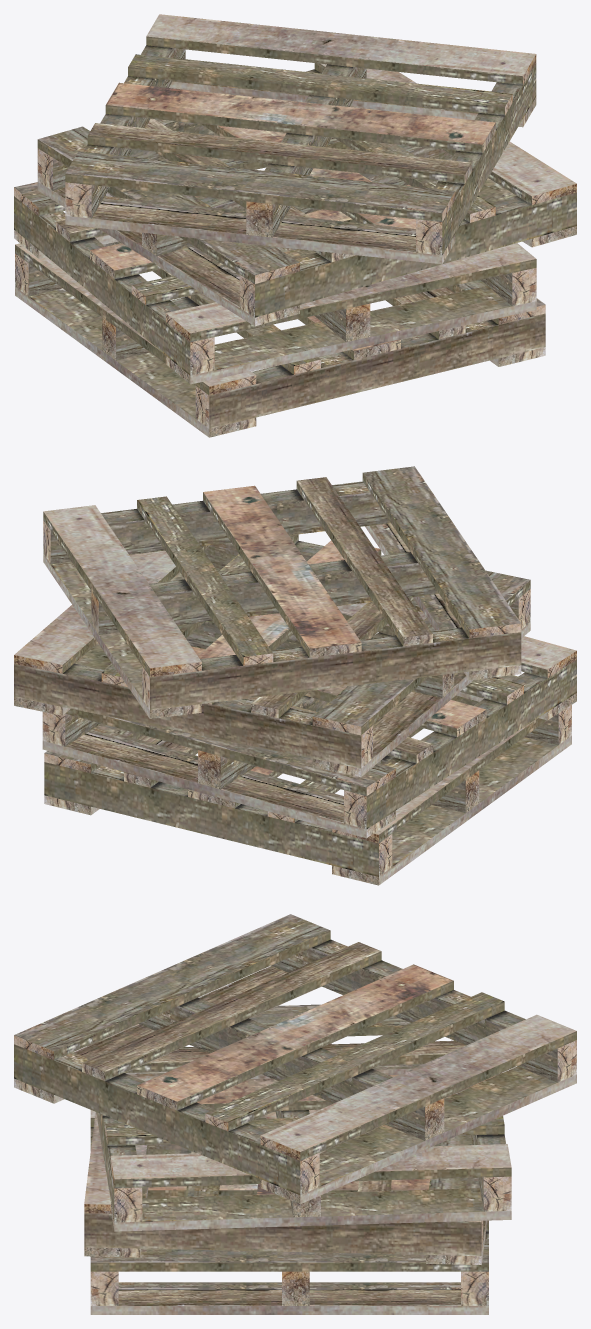
File: crate_a_from_fps_creator_classic.glb
3 views of the same model, one above another, from view 1: azimuth 30°, elevation 25°; view 2: azimuth 150°, elevation 25°; view 3: azimuth 270°, elevation 25° (orthographic). The views are drawn at different scales.
Parts seen in each view (by area): view 1: crate_a; view 2: crate_a; view 3: crate_a.
Part boxes in pixels (left/top/right/bottom): crate_a: left=14, top=14, right=576, bottom=437; crate_a: left=14, top=466, right=576, bottom=885; crate_a: left=14, top=914, right=576, bottom=1314.
Size of the model in its own units: 2.05 by 0.8406 by 2.05.
1 material, 1 textured.
